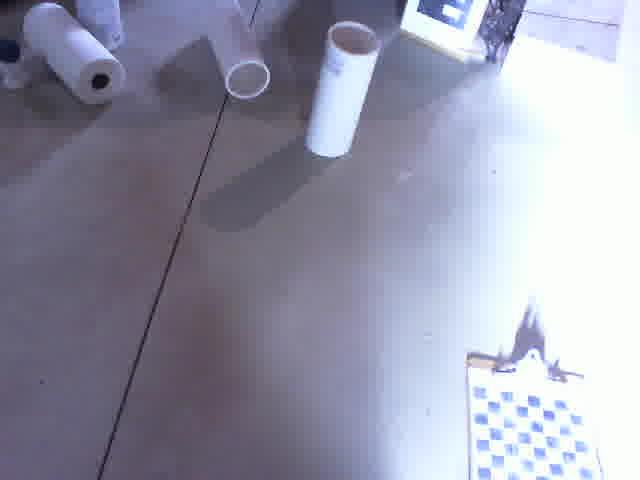coral: (301, 20, 385, 160), (496, 33, 640, 111), (196, 0, 276, 102)
